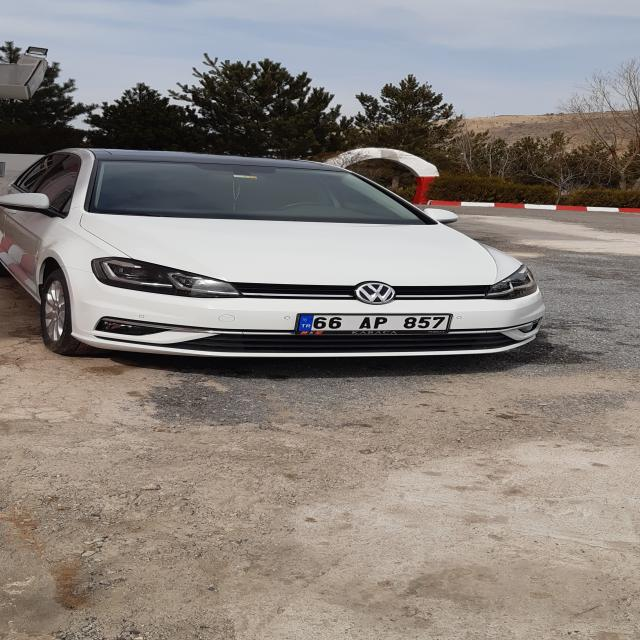license_plate: (297, 314, 449, 331)
